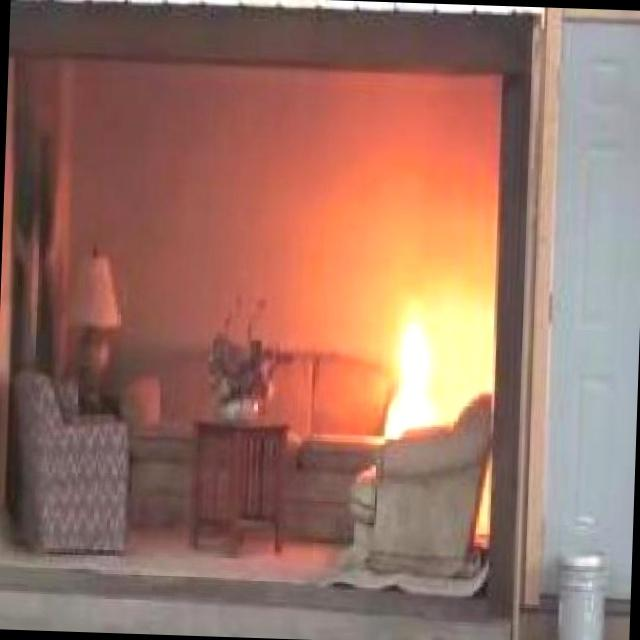fire: (371, 282, 451, 440)
